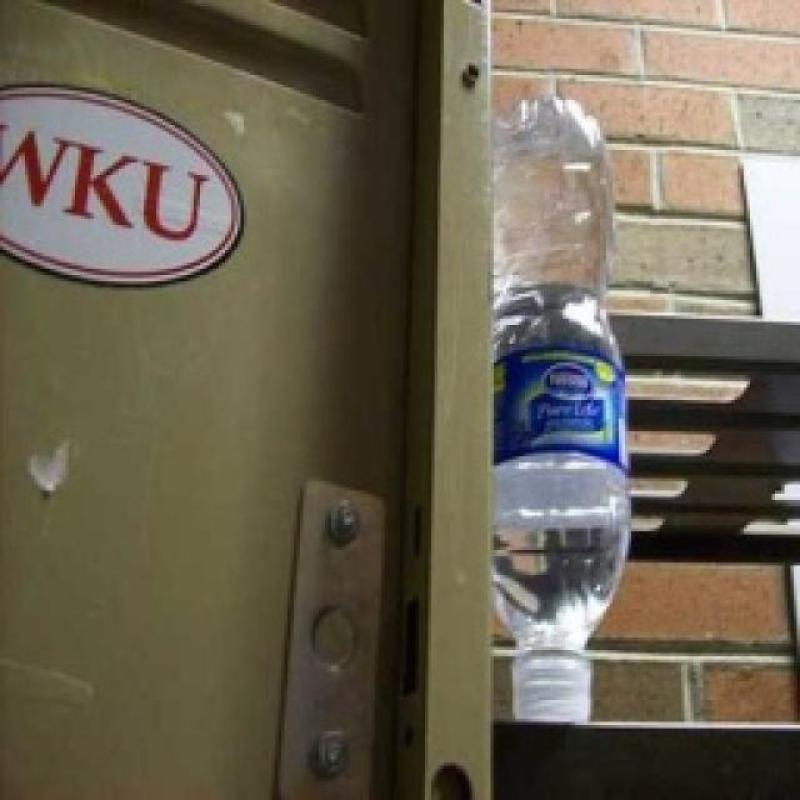botella: (489, 95, 633, 730)
